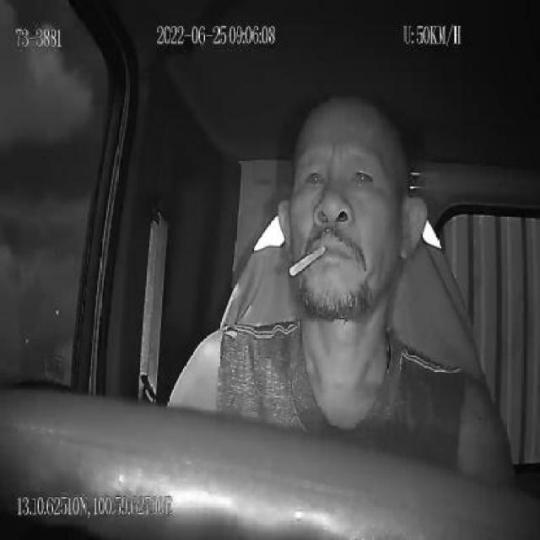smoking: (288, 241, 326, 278)
